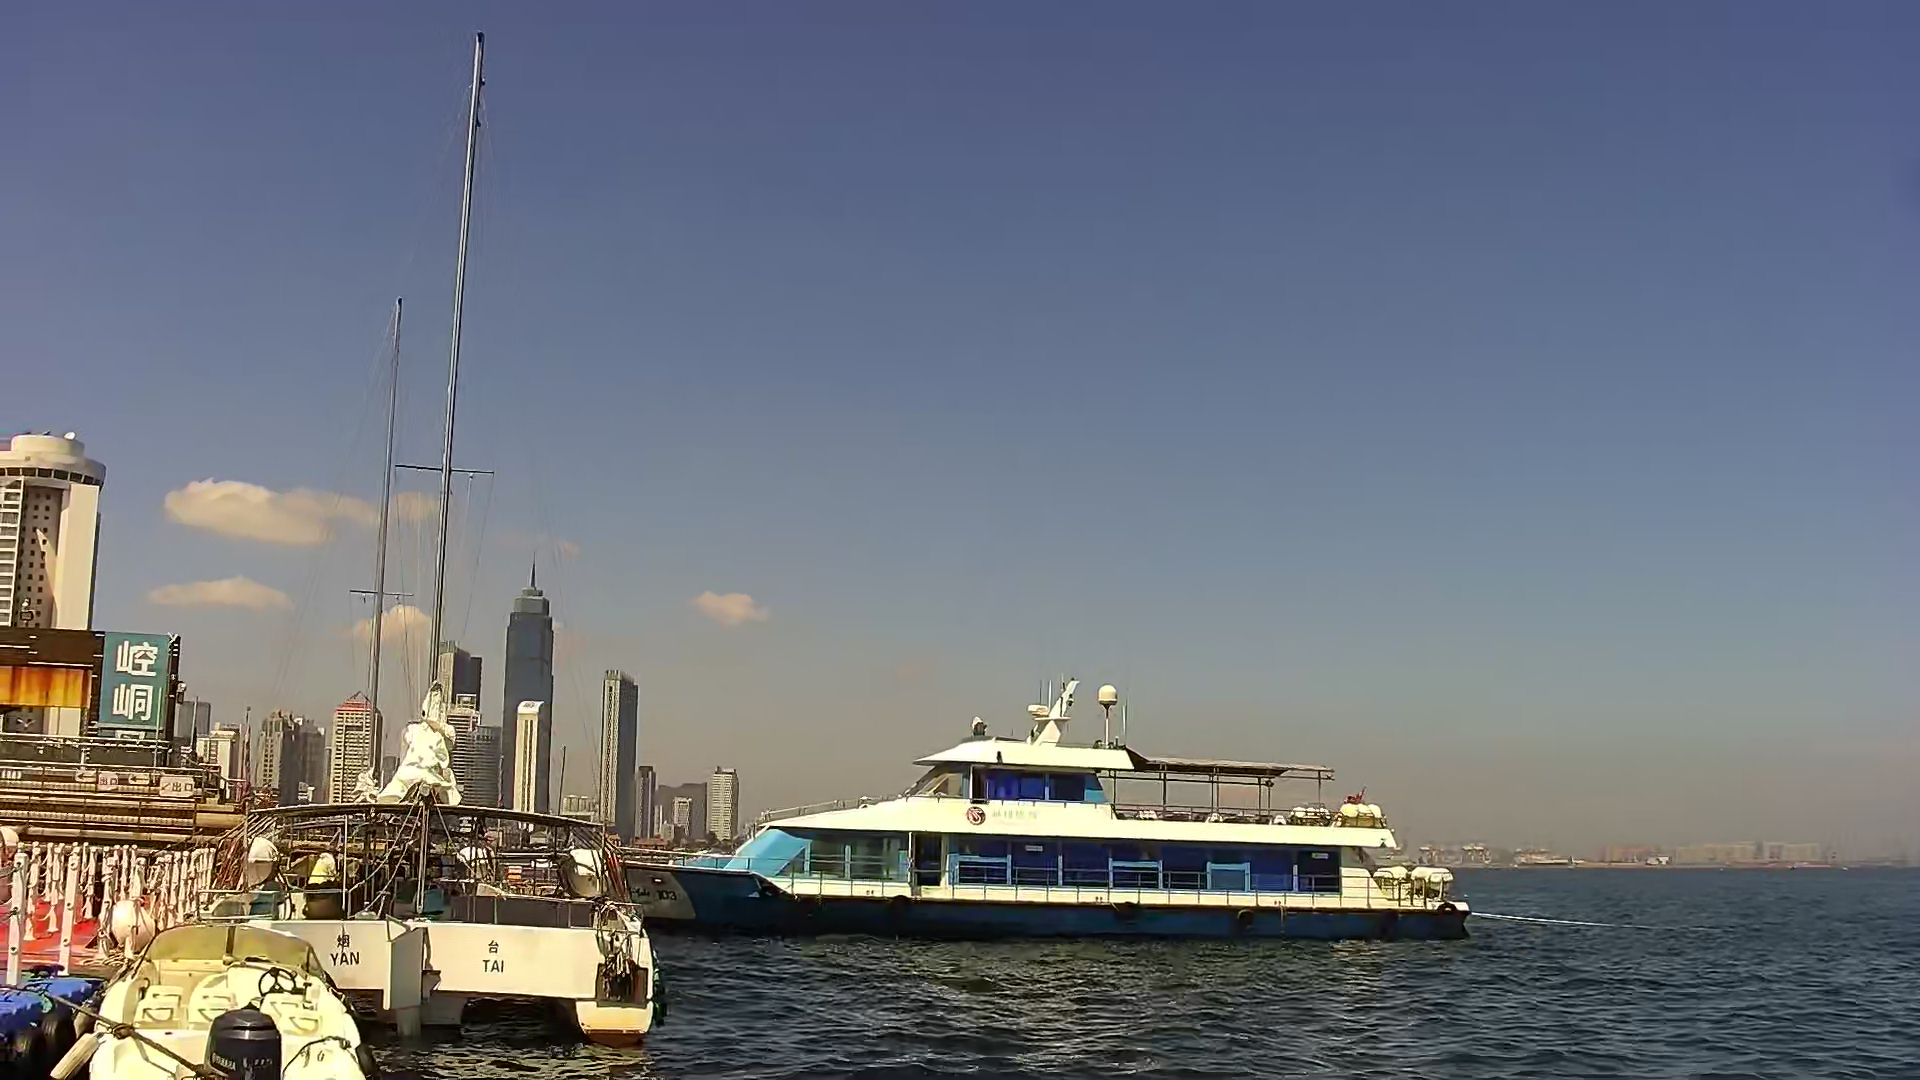boat: (195, 25, 647, 1036), (51, 927, 357, 1080)
ship: (650, 670, 1474, 951)
